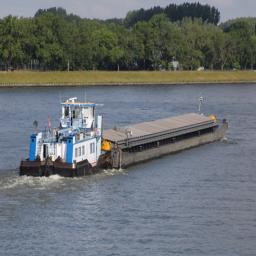tugboat: (19, 97, 118, 182)
